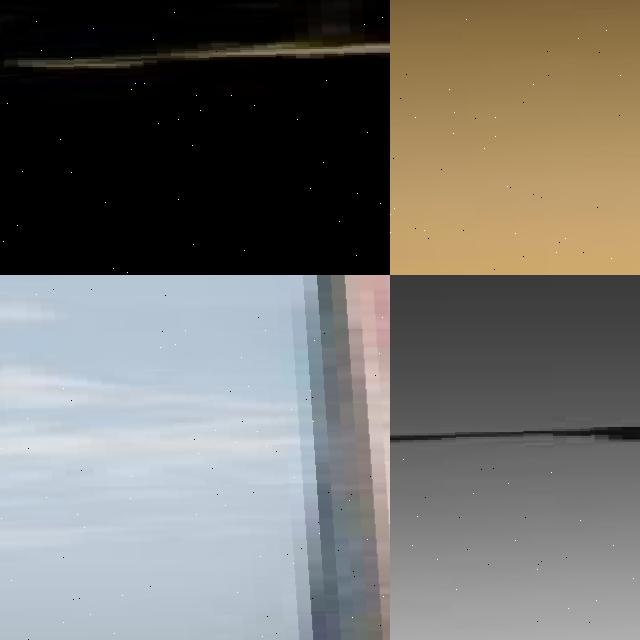street light: (0, 275, 390, 640), (0, 0, 390, 275), (390, 0, 640, 275), (390, 427, 640, 640)
